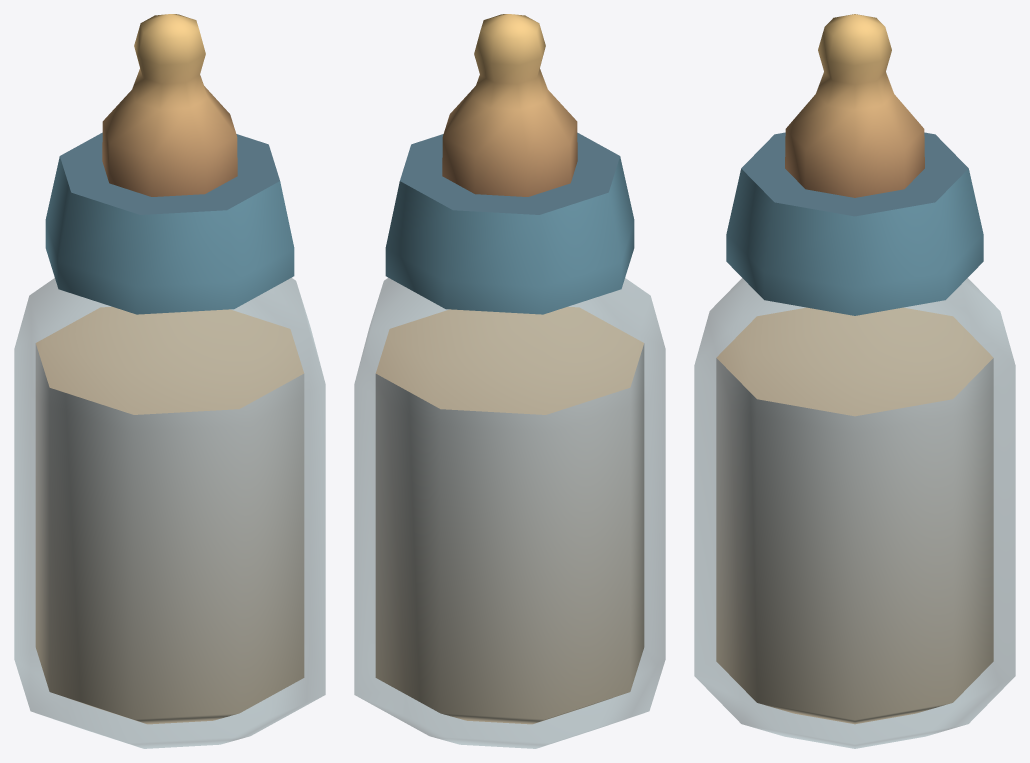
3 views of the same model, side by side, from view 1: azimuth 30°, elevation 25°; view 2: azimuth 150°, elevation 25°; view 3: azimuth 270°, elevation 25° (orthographic).
Visible parts, largest first — view 1: transp.006; view 2: transp.006; view 3: transp.006.
Part boxes in pixels (<box>): transp.006: <box>14,14,325,748</box>; transp.006: <box>354,14,665,748</box>; transp.006: <box>694,14,1015,748</box>.
Bounding box in the file's own units: 0.2103 × 0.5 × 0.2103.
